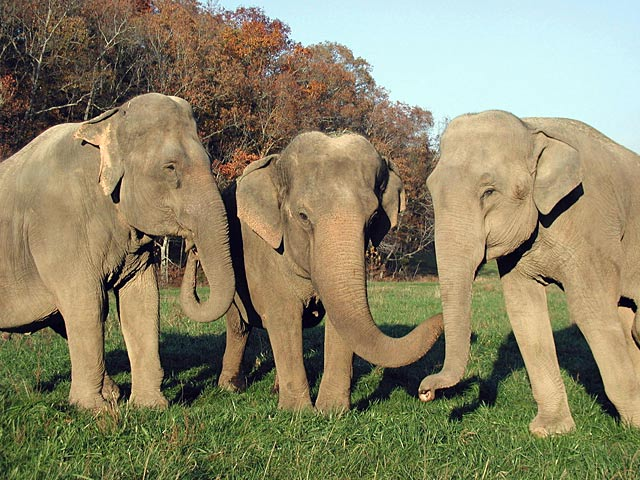elephant: (2, 86, 241, 427), (418, 99, 636, 448), (218, 122, 448, 425)
